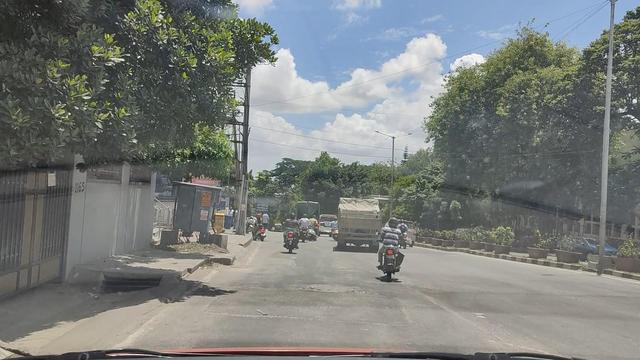HMV: (329, 191, 384, 249), (293, 196, 326, 240)
RoadDamages: (205, 299, 299, 336), (293, 268, 376, 304)
